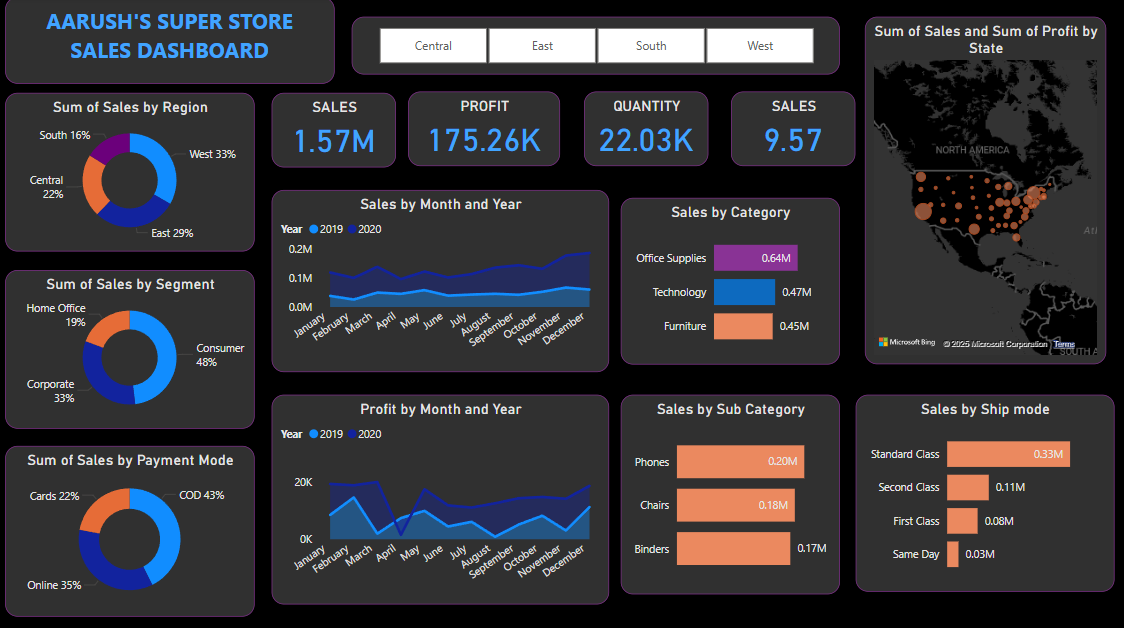

The dashboard page shown, as its layout file describes it:
{"tool":"powerbi","page":{"name":"Page 1","canvas":[1280,720],"ordinal":0},"visuals":[{"type":"clusteredBarChart","title":"Sales by Category","fields":{"Category":["SuperStore_Sales_Dataset.Category"],"Y":["Sum(SuperStore_Sales_Dataset.Sales)"]},"box":[708,227.6,248.4,188.9],"z":0},{"type":"clusteredBarChart","title":"Sales by Sub Category","fields":{"Category":["SuperStore_Sales_Dataset.Sub-Category"],"Y":["Sum(SuperStore_Sales_Dataset.Sales)"]},"box":[708,450.7,248.4,226.1],"z":1000},{"type":"clusteredBarChart","title":"Sales by Ship mode","fields":{"Category":["SuperStore_Sales_Dataset.Ship Mode"],"Y":["Sum(SuperStore_Sales_Dataset.Sales)"]},"box":[974.2,450.7,293,223.1],"z":2000},{"type":"stackedAreaChart","title":"Profit by Month and Year","fields":{"Category":["SuperStore_Sales_Dataset.Order Date.Variation.Date Hierarchy.Month","SuperStore_Sales_Dataset.Order Date.Variation.Date Hierarchy.Day"],"Series":["SuperStore_Sales_Dataset.Order Date.Variation.Date Hierarchy.Year"],"Y":["Sum(SuperStore_Sales_Dataset.Profit)"]},"box":[312.4,450.7,382.3,238],"z":3000},{"type":"stackedAreaChart","title":" Sales by Month and Year","fields":{"Category":["SuperStore_Sales_Dataset.Order Date.Variation.Date Hierarchy.Month","SuperStore_Sales_Dataset.Order Date.Variation.Date Hierarchy.Day"],"Y":["Sum(SuperStore_Sales_Dataset.Sales)"],"Series":["SuperStore_Sales_Dataset.Order Date.Variation.Date Hierarchy.Year"]},"box":[312.4,218.6,382.3,206.7],"z":4000},{"type":"map","fields":{"Category":["SuperStore_Sales_Dataset.State"],"Size":["Sum(SuperStore_Sales_Dataset.Sales)"]},"box":[984.7,22.3,273.7,394.2],"z":5000},{"type":"donutChart","fields":{"Category":["SuperStore_Sales_Dataset.Segment"],"Y":["Sum(SuperStore_Sales_Dataset.Sales)"]},"box":[10.4,309.4,282.6,180],"z":6000},{"type":"donutChart","fields":{"Category":["SuperStore_Sales_Dataset.Payment Mode"],"Y":["Sum(SuperStore_Sales_Dataset.Sales)"]},"box":[10.4,508.7,282.6,193.4],"z":7000},{"type":"slicer","fields":{"Values":["SuperStore_Sales_Dataset.Region"]},"box":[403.1,22.3,553.3,65.4],"z":8000},{"type":"textbox","box":[10.4,0,373.3,98.2],"z":9000},{"type":"card","title":"SALES","fields":{"Values":["Sum(SuperStore_Sales_Dataset.Sales)"]},"box":[312.4,108.6,141.3,84.8],"z":10000},{"type":"card","title":"PROFIT","fields":{"Values":["Sum(SuperStore_Sales_Dataset.Profit)"]},"box":[467,107.1,172.5,84.8],"z":12000},{"type":"card","title":"SALES","fields":{"Values":["Avg(SuperStore_Sales_Dataset.Avgdelivery)"]},"box":[832.9,107.1,141.3,84.8],"z":13000},{"type":"card","title":"QUANTITY","fields":{"Values":["Sum(SuperStore_Sales_Dataset.Quantity)"]},"box":[666.4,107.1,141.3,84.8],"z":14000},{"type":"donutChart","fields":{"Category":["SuperStore_Sales_Dataset.Region"],"Y":["Sum(SuperStore_Sales_Dataset.Sales)"]},"box":[10.4,108.6,282.6,180],"z":15000}]}

Visuals, with their boxes in screenshot pixels (x1, y1, x2, y2), scaled from the page's 1280x720 canvas onto the 1124x628 screenshot:
"Sales by Category" clusteredBarChart: (x1=622, y1=199, x2=840, y2=363)
"Sales by Sub Category" clusteredBarChart: (x1=622, y1=393, x2=840, y2=590)
"Sales by Ship mode" clusteredBarChart: (x1=855, y1=393, x2=1113, y2=588)
"Profit by Month and Year" stackedAreaChart: (x1=274, y1=393, x2=610, y2=601)
" Sales by Month and Year" stackedAreaChart: (x1=274, y1=191, x2=610, y2=371)
map - SuperStore_Sales_Dataset.State x Sum(SuperStore_Sales_Dataset.Sales): (x1=865, y1=19, x2=1105, y2=363)
donutChart - SuperStore_Sales_Dataset.Segment x Sum(SuperStore_Sales_Dataset.Sales): (x1=9, y1=270, x2=257, y2=427)
donutChart - SuperStore_Sales_Dataset.Payment Mode x Sum(SuperStore_Sales_Dataset.Sales): (x1=9, y1=444, x2=257, y2=612)
slicer - SuperStore_Sales_Dataset.Region: (x1=354, y1=19, x2=840, y2=76)
textbox: (x1=9, y1=0, x2=337, y2=86)
"SALES" card: (x1=274, y1=95, x2=398, y2=169)
"PROFIT" card: (x1=410, y1=93, x2=562, y2=167)
"SALES" card: (x1=731, y1=93, x2=855, y2=167)
"QUANTITY" card: (x1=585, y1=93, x2=709, y2=167)
donutChart - SuperStore_Sales_Dataset.Region x Sum(SuperStore_Sales_Dataset.Sales): (x1=9, y1=95, x2=257, y2=252)
